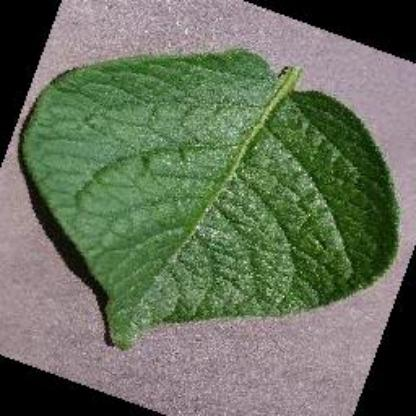Healthy-plant: (21, 36, 404, 350)
